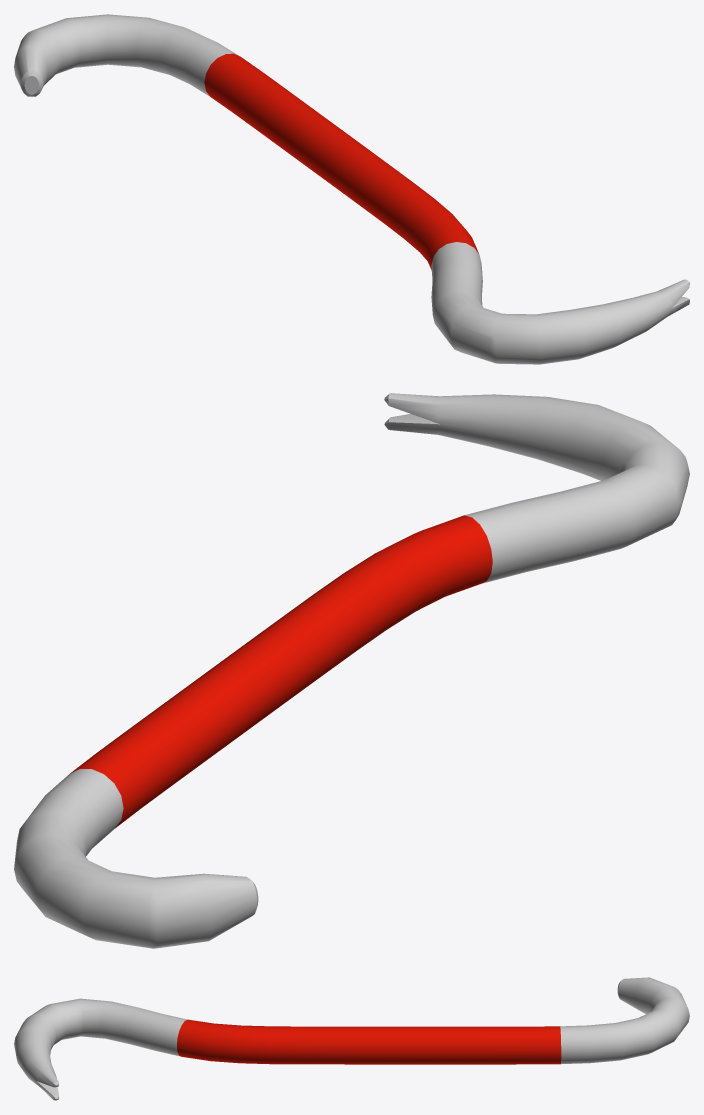
Rendered from Crowbar.fbx.
3 views of the same model, one above another, from view 1: azimuth 30°, elevation 25°; view 2: azimuth 150°, elevation 25°; view 3: azimuth 270°, elevation 25° (orthographic). The views are drawn at different scales.
Visible parts, largest first — view 1: Crowbar; view 2: Crowbar; view 3: Crowbar.
Part boxes in pixels (left/top/right/bottom): Crowbar: left=14, top=14, right=689, bottom=364; Crowbar: left=14, top=393, right=689, bottom=948; Crowbar: left=14, top=977, right=689, bottom=1100.
Bounding box in the file's own units: 63.56 × 9.6 × 171.
